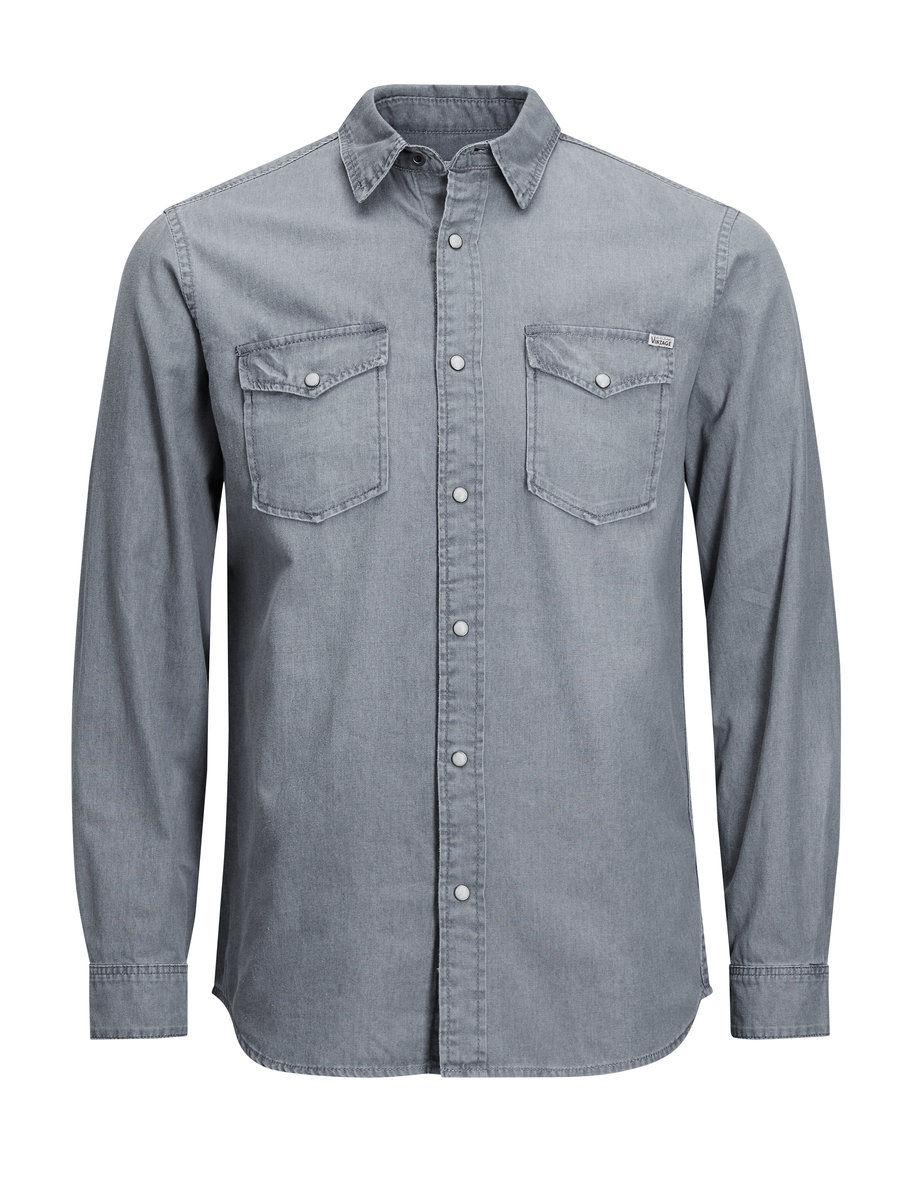teeshirt: (43, 85, 854, 1098)
